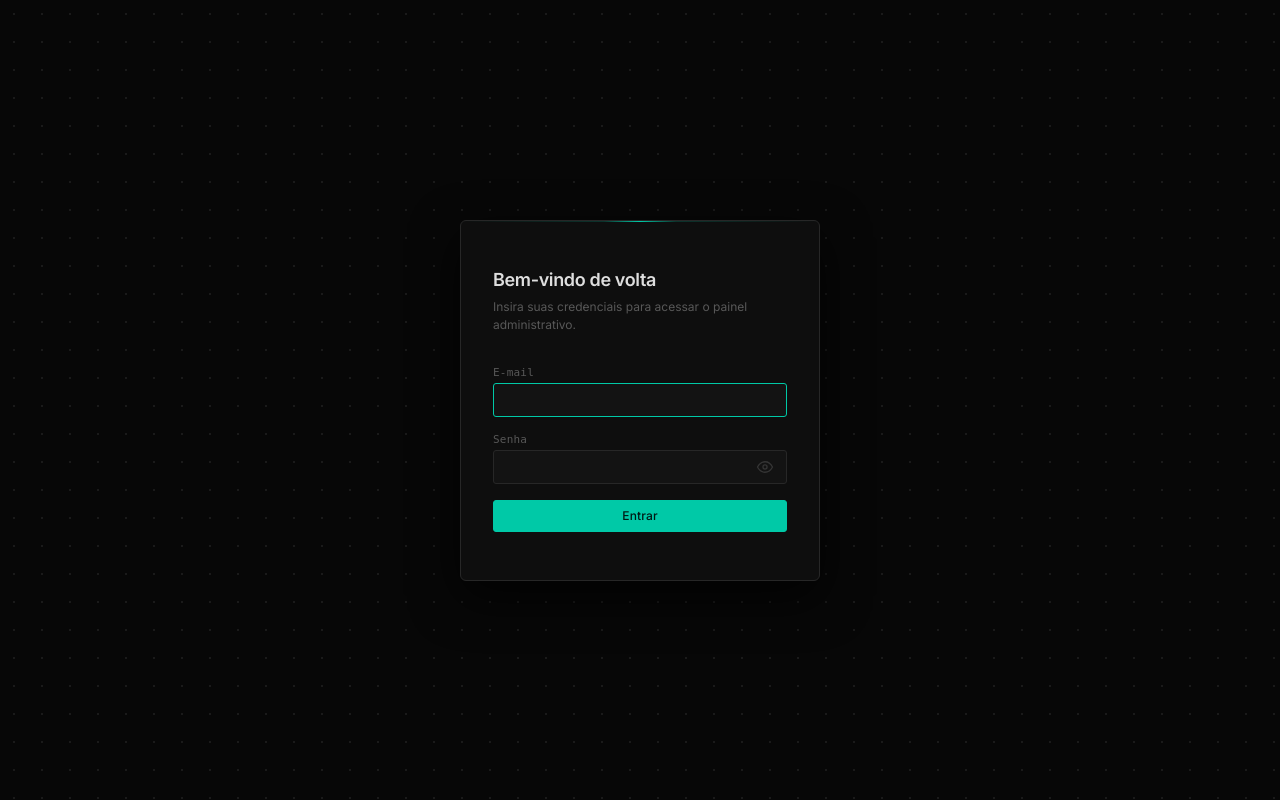
Test case: LoginPage › shows validation errors when submitted empty
This screenshot has width=1280, height=800.
What coordinates should you click on to do the following:
click the button "Entrar"
I would click on:
 (640, 516)
Its box is [493, 500, 787, 532].
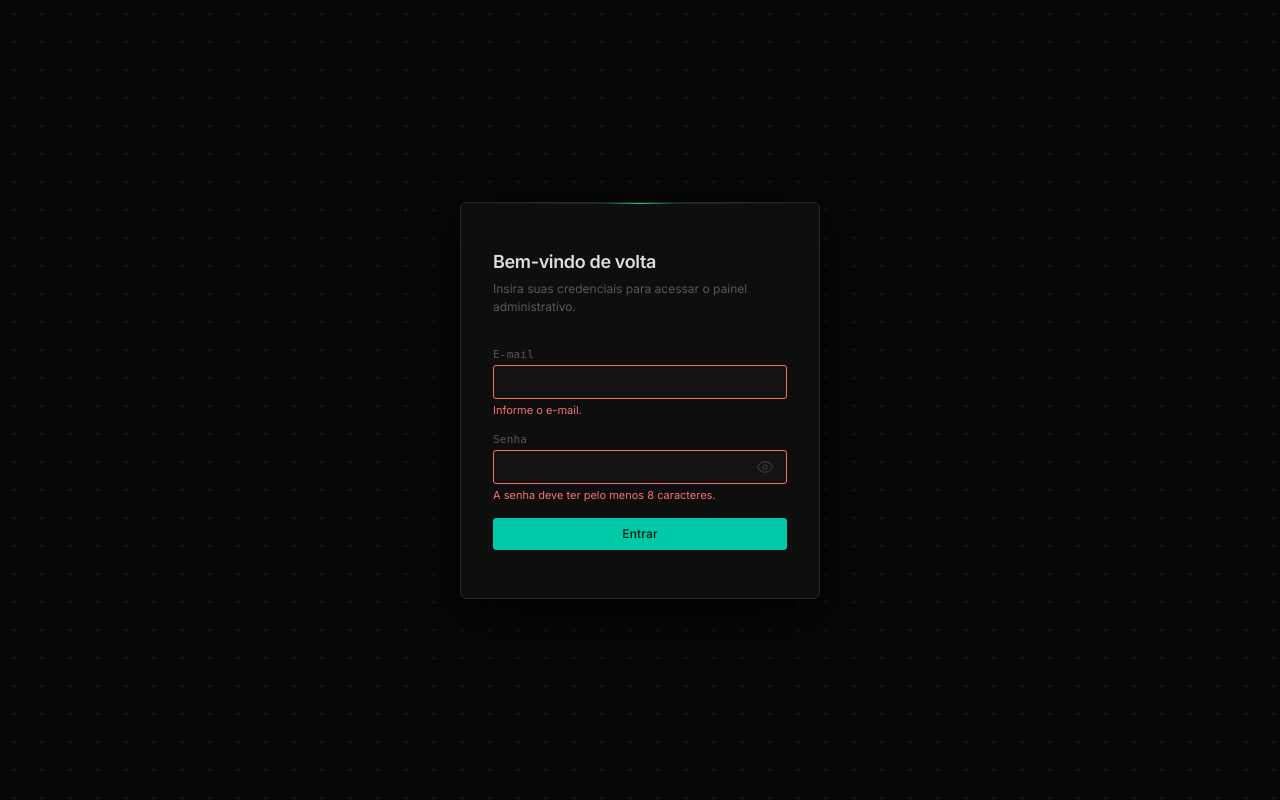
Expected: the text "Informe o e-mail." is shown, [493, 402, 582, 416]
Expected: the text "A senha deve ter pelo menos 8 caracteres." is shown, [493, 488, 716, 502]
